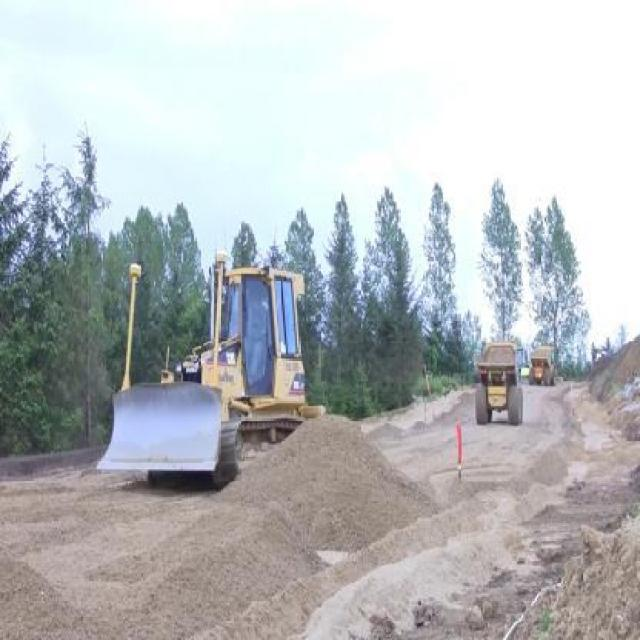Bulldozer: (94, 234, 340, 503)
Dump Truck: (477, 339, 523, 424), (528, 343, 558, 386)
